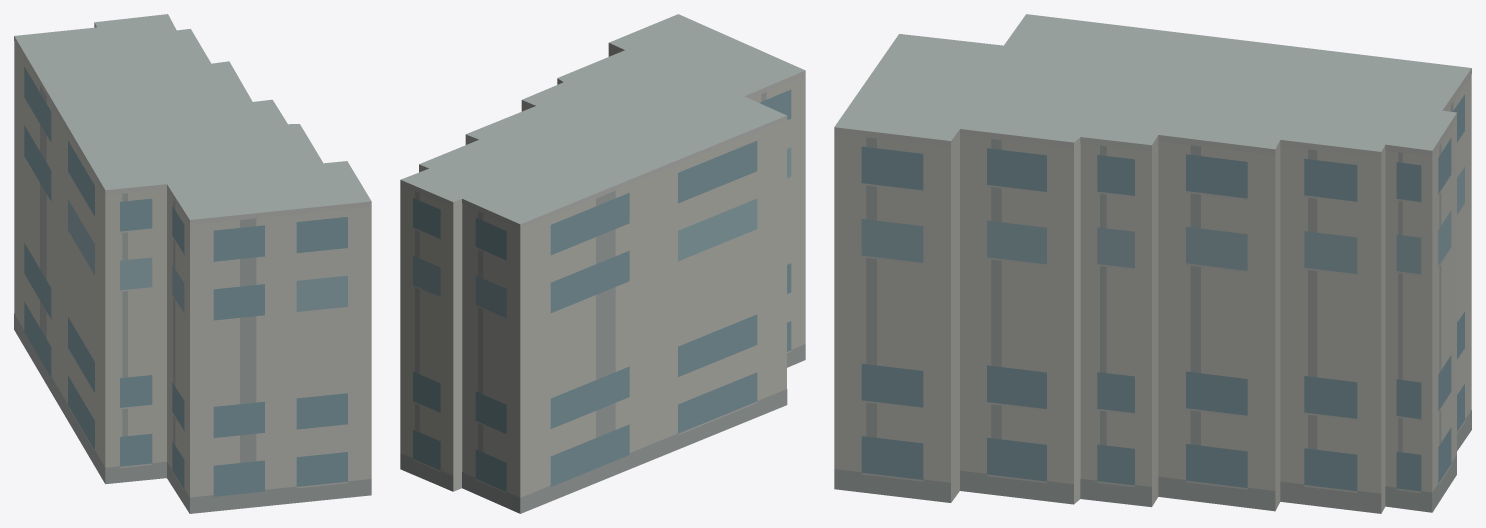
The model's file is survey-upis-32825767.glb.
The picture shows the model from 3 angles, left to right: view 1: azimuth 30°, elevation 25°; view 2: azimuth 150°, elevation 25°; view 3: azimuth 270°, elevation 25°; orthographic projection. The views are drawn at different scales.
Parts seen in each view (by area): view 1: survey-upis-32825767.tmp; view 2: survey-upis-32825767.tmp; view 3: survey-upis-32825767.tmp.
Boxes of the visible parts, box(x1,y1,x2,y2) form: survey-upis-32825767.tmp: box(14, 14, 371, 513); survey-upis-32825767.tmp: box(400, 14, 805, 513); survey-upis-32825767.tmp: box(834, 14, 1471, 513).
Bounding box in the file's own units: 11.41 × 13.95 × 22.28.
